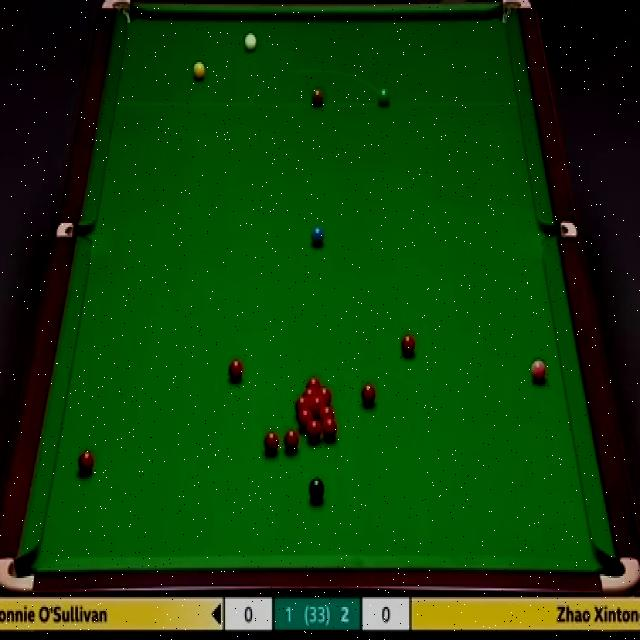black-ball: (308, 475, 325, 505)
blue-ball: (310, 225, 326, 248)
brown-ball: (311, 86, 324, 108)
green-ball: (377, 87, 391, 107)
pink-ball: (530, 357, 546, 384)
red-ball: (76, 450, 95, 477), (283, 426, 300, 456), (226, 356, 244, 384), (262, 429, 279, 455), (322, 418, 338, 442), (361, 381, 376, 406), (402, 332, 416, 358), (298, 408, 312, 430), (316, 386, 332, 405), (308, 420, 321, 443), (309, 395, 324, 414), (294, 395, 309, 413), (306, 377, 322, 388), (320, 407, 334, 419), (302, 388, 318, 398)
white-ball: (244, 32, 257, 54)
yellow-ball: (192, 62, 206, 83)
